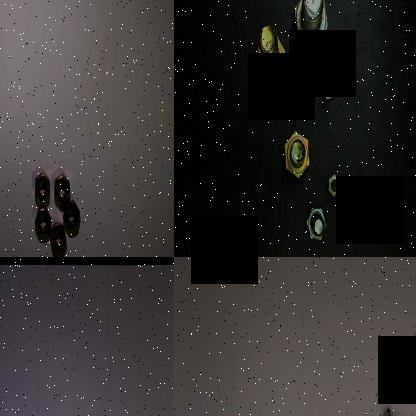Bolts: (252, 18, 288, 94), (291, 0, 331, 59), (282, 128, 314, 187), (356, 184, 384, 222), (306, 203, 330, 246), (318, 63, 340, 107), (326, 160, 346, 200), (381, 406, 407, 416)
NUTS: (62, 196, 80, 232), (32, 171, 52, 202), (53, 169, 69, 205), (48, 221, 66, 252), (34, 203, 51, 235)
